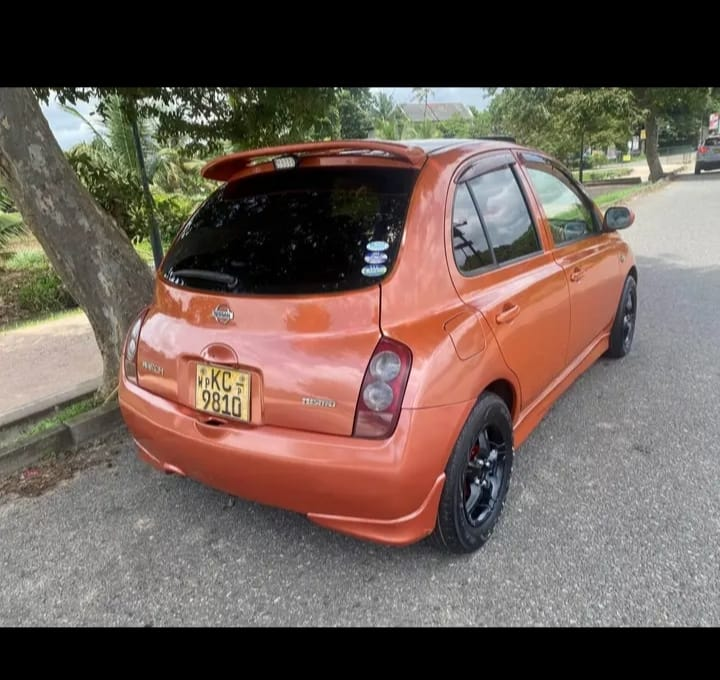number_plate: (192, 364, 251, 423)
